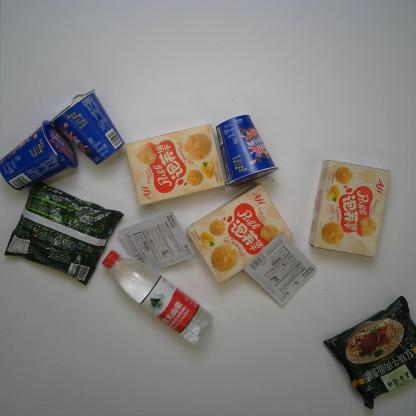Dessert: (186, 184, 292, 280), (123, 122, 228, 207), (306, 156, 394, 257), (1, 118, 80, 194), (51, 90, 122, 164), (216, 112, 280, 188)
Drink: (102, 251, 212, 345)
Instant Noodles: (4, 181, 126, 286), (322, 294, 416, 413)
Stationery: (245, 231, 315, 305), (115, 212, 195, 276)
